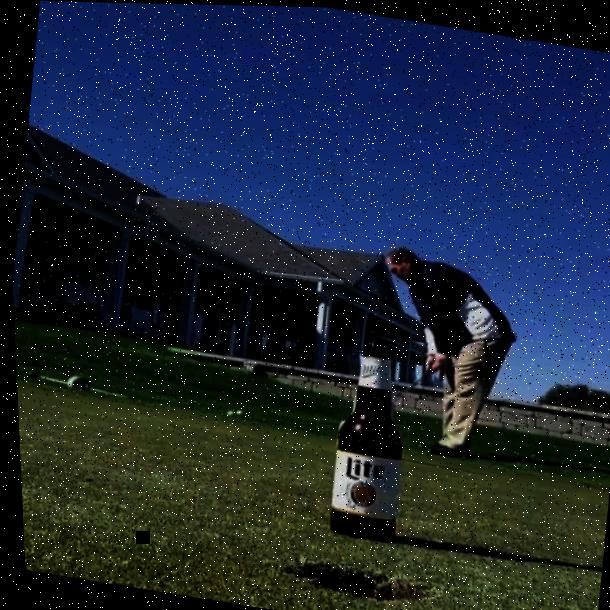GolfBall: (222, 409, 230, 415), (232, 409, 240, 415)
